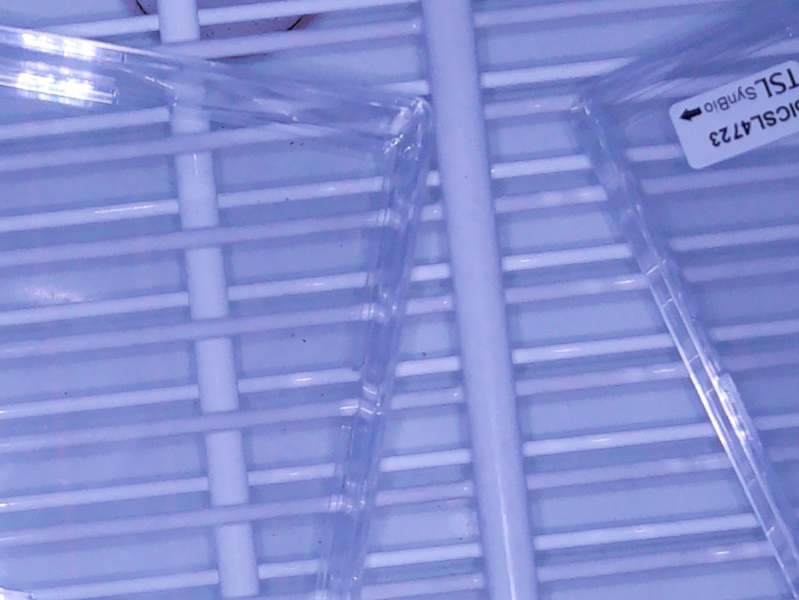plate: (1, 27, 435, 600), (570, 10, 799, 594)
